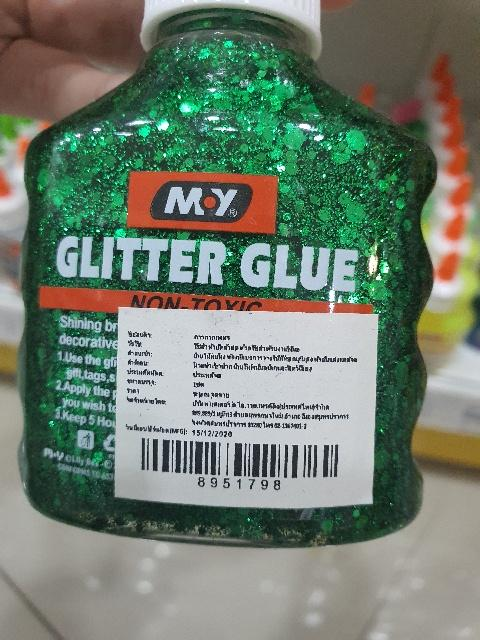Barcode: (135, 436, 349, 494)
